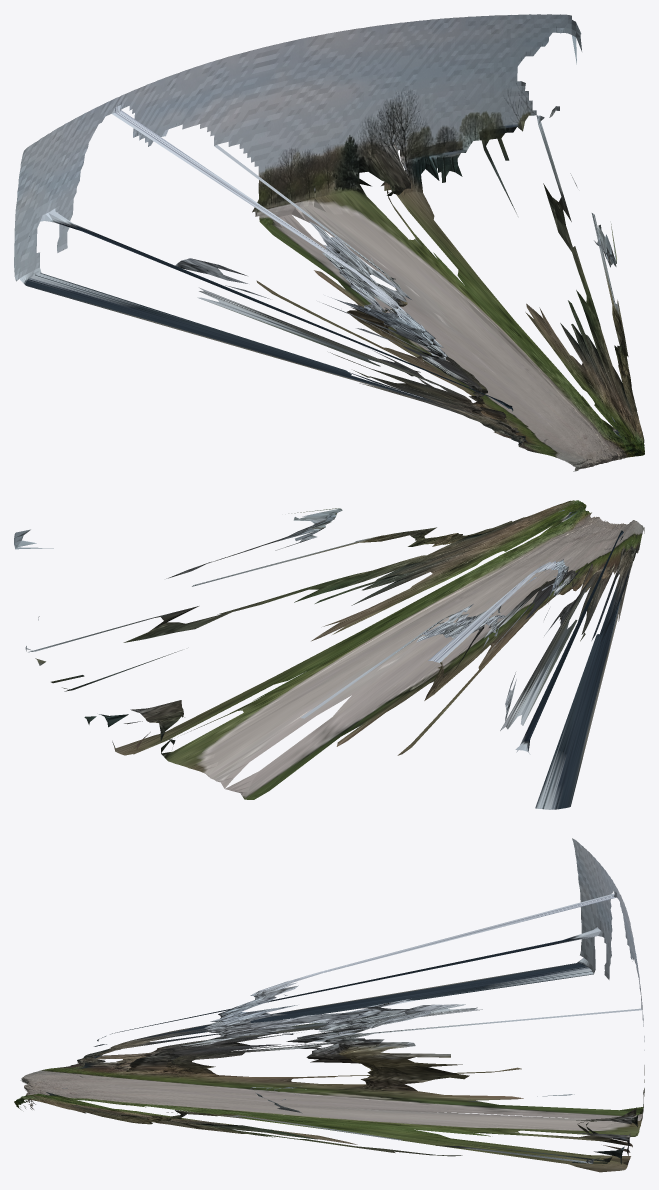
3 views of the same model, one above another, from view 1: azimuth 30°, elevation 25°; view 2: azimuth 150°, elevation 25°; view 3: azimuth 270°, elevation 25° (orthographic). The views are drawn at different scales.
Parts seen in each view (by area): view 1: defaultobject; view 2: defaultobject; view 3: defaultobject.
Part boxes in pixels (bbox=[...]): defaultobject: bbox=[14, 14, 644, 471]; defaultobject: bbox=[14, 500, 644, 809]; defaultobject: bbox=[14, 838, 644, 1172].
Bounding box in the file's own units: 40.56 × 12.86 × 44.76.
Materials: 1 (1 with a texture image).
